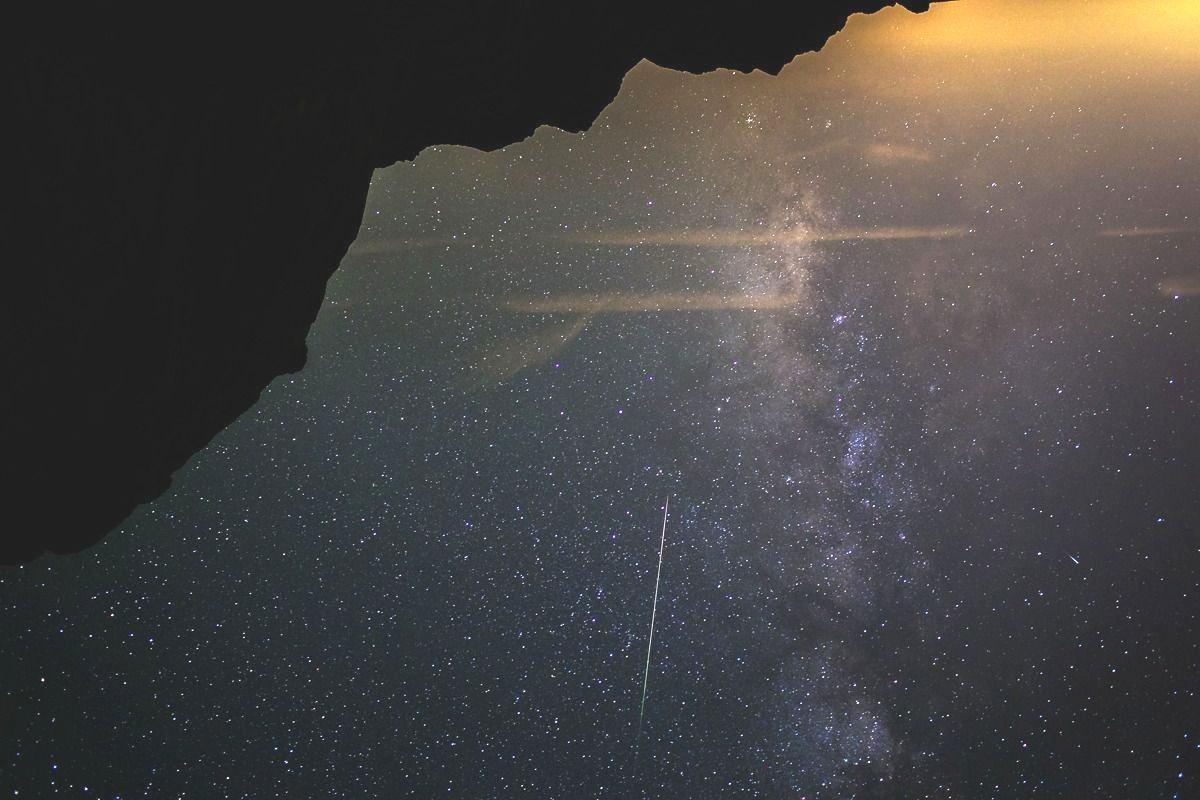meteorite: (632, 502, 680, 738)
